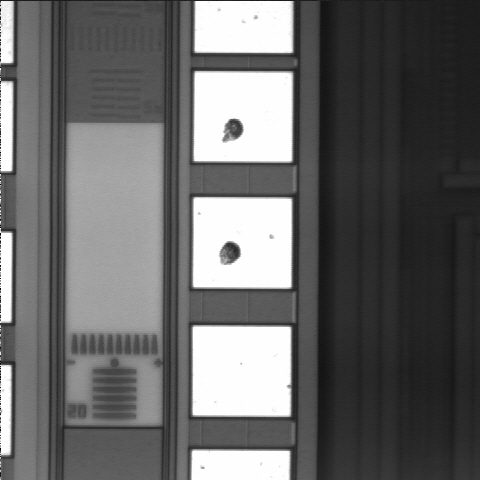pad: (193, 197, 292, 288), (194, 71, 292, 162), (193, 326, 291, 416)
